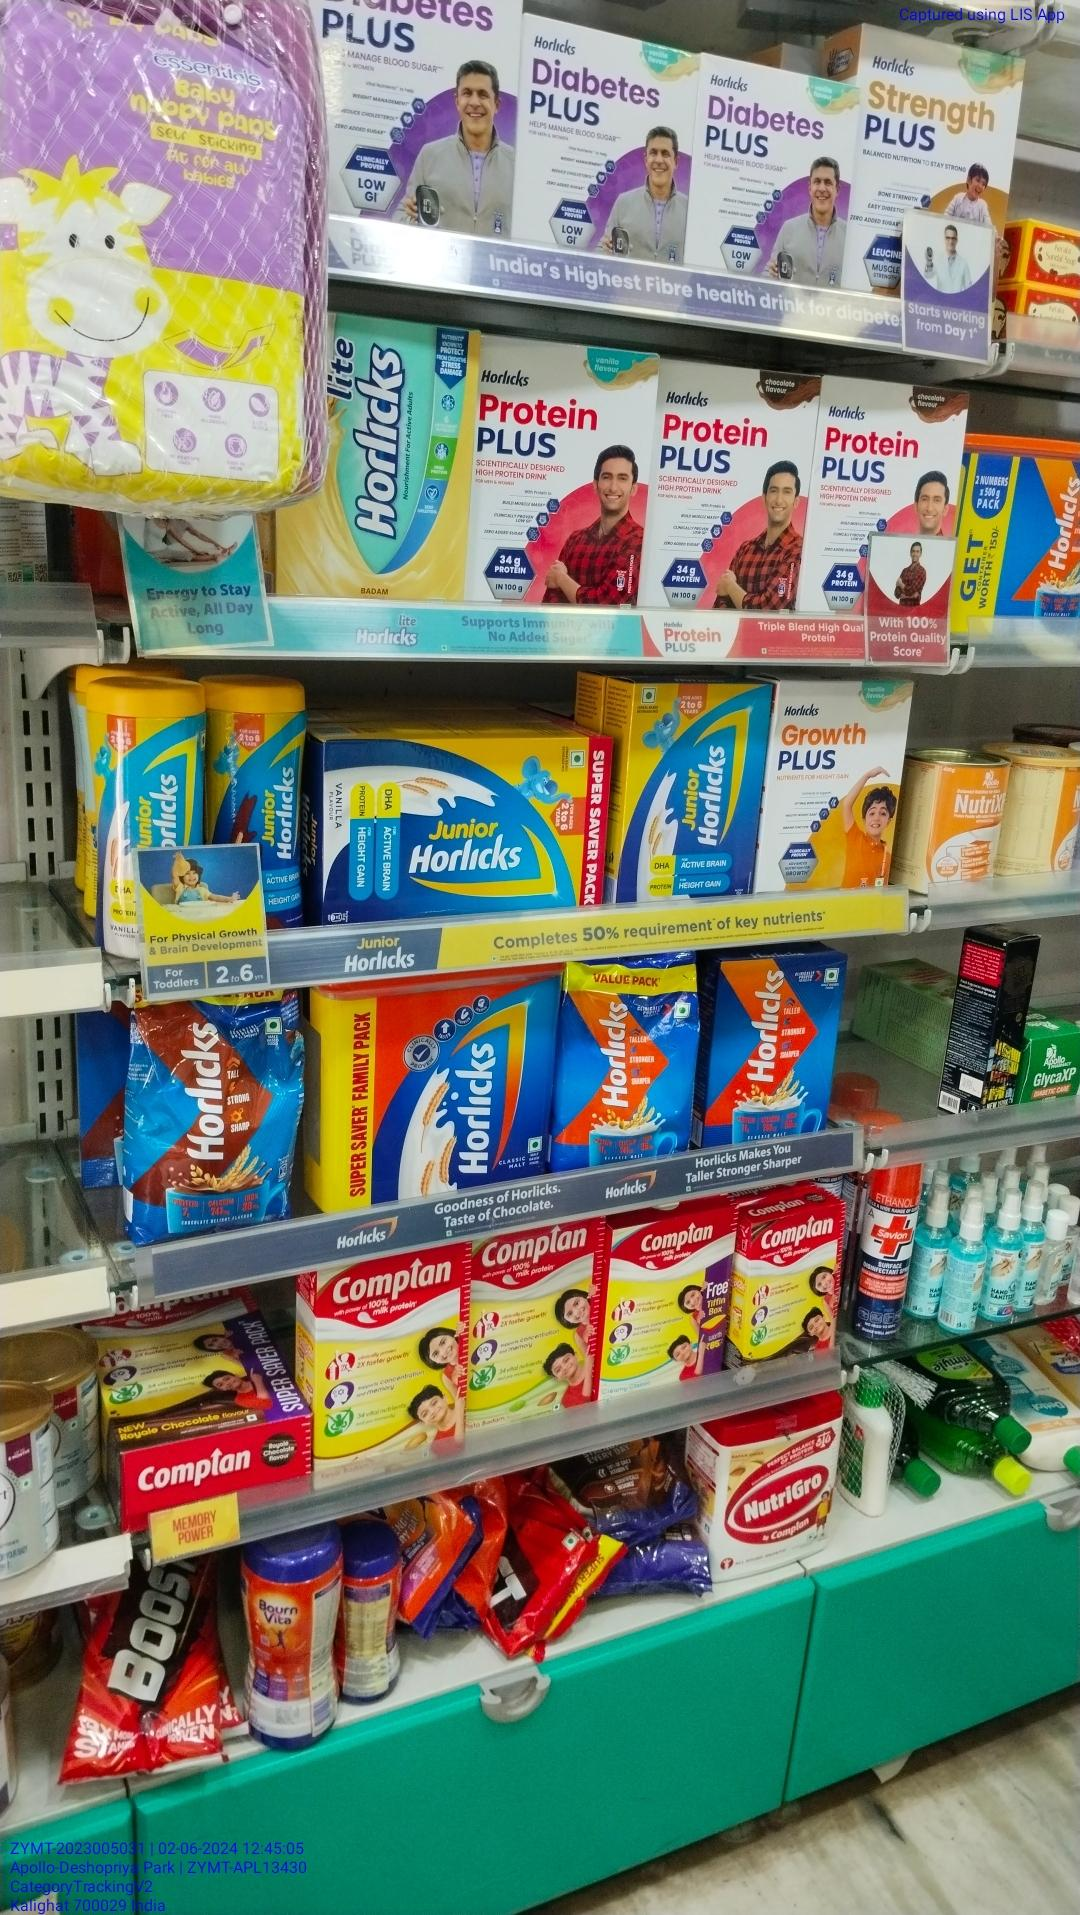HORLICKS_JUNIOR_VANILLA_500_GM_JAR: (86, 684, 203, 960)
HORLICK_MALT_1_KG_CONTAINER: (318, 975, 558, 1206)
